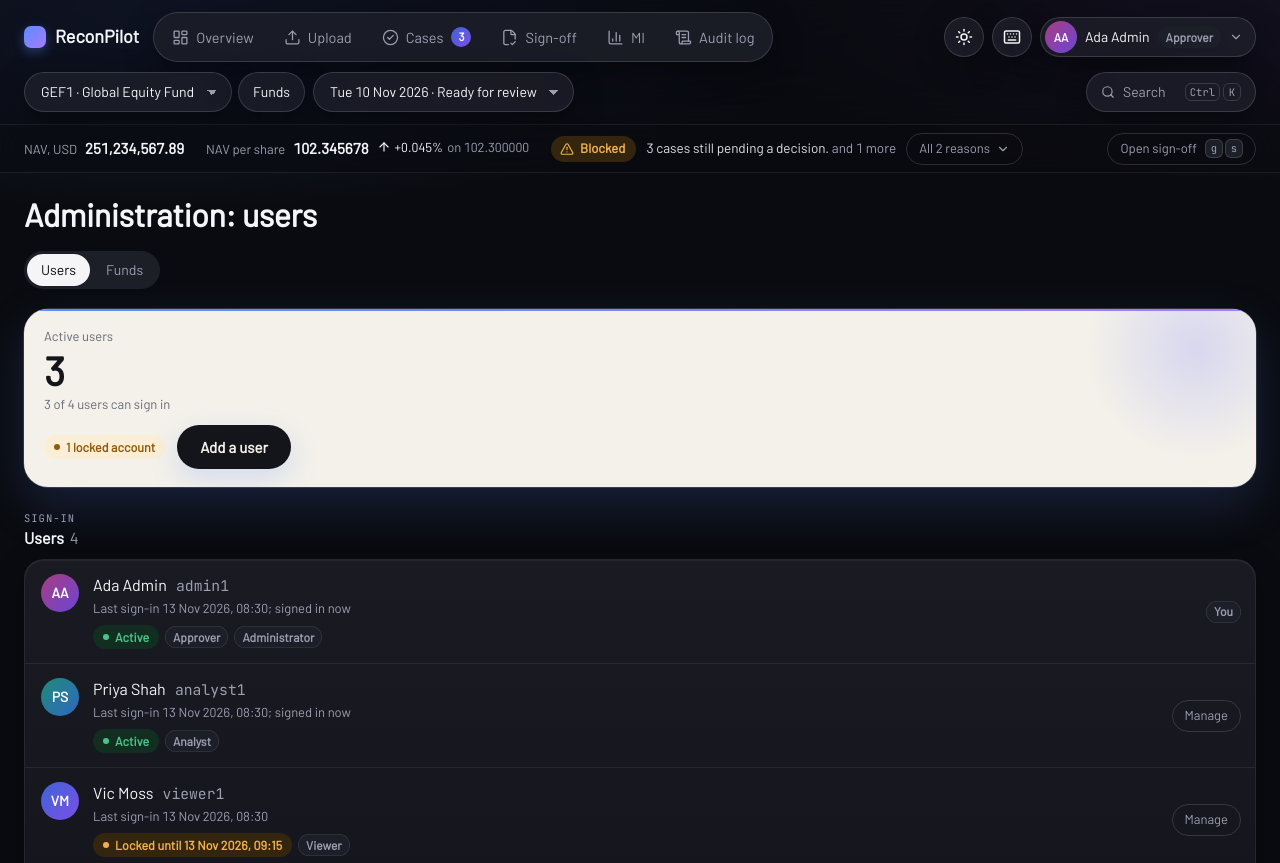
Test: Administration: who sees it › opens on the users tab from /admin and switches to funds
Expected: the heading "Administration: users" is shown, x1=24 y1=195 x2=317 y2=233
Click the link "Funds" below "Administration: users" at (125, 270), box x1=106 y1=261 x2=143 y2=278
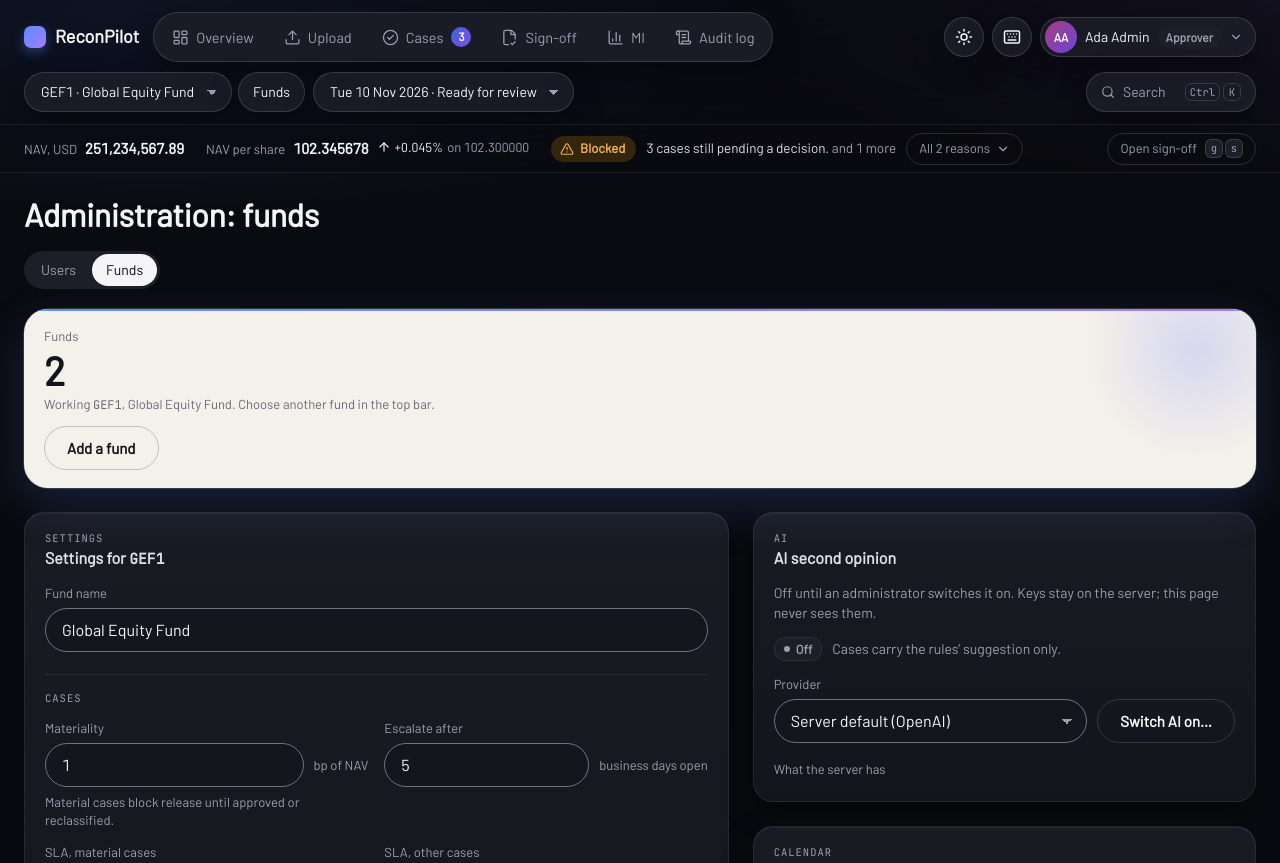
Now the heading "Administration: funds" is shown, box x1=24 y1=195 x2=319 y2=233
